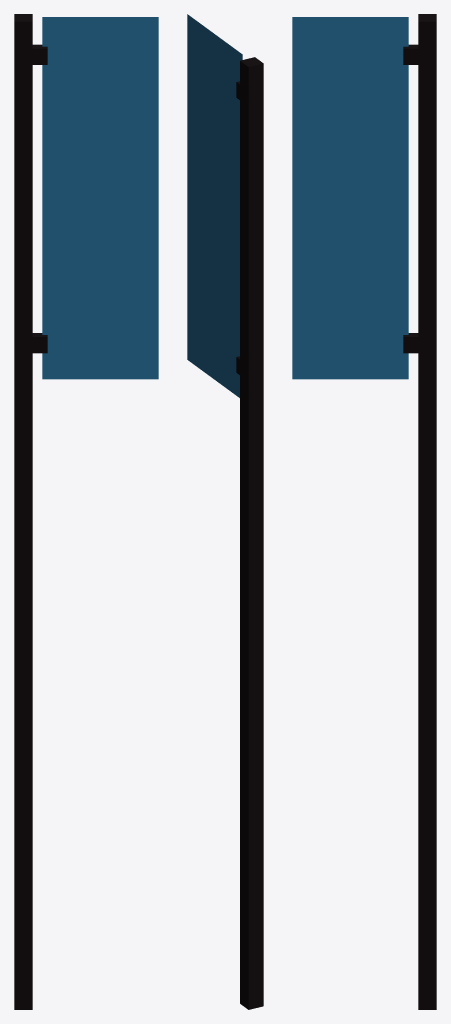
Rendered from Flag_A.obj.
The picture shows the model from 3 angles, left to right: view 1: azimuth 90°, elevation 25°; view 2: azimuth 210°, elevation 25°; view 3: azimuth 270°, elevation 25°; orthographic projection. The views are drawn at different scales.
Visible parts, largest first — view 1: Flag_A; view 2: Flag_A; view 3: Flag_A.
Part boxes in pixels (box(x1,y1,x2,y2)): Flag_A: box(14, 14, 158, 1009); Flag_A: box(187, 14, 263, 1009); Flag_A: box(292, 14, 436, 1009).
Bounding box in the file's own units: 0.2049 × 12.3 × 1.62.
